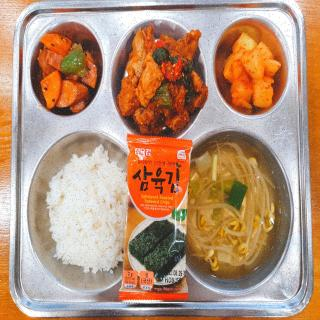Nasi: (49, 153, 123, 282)
